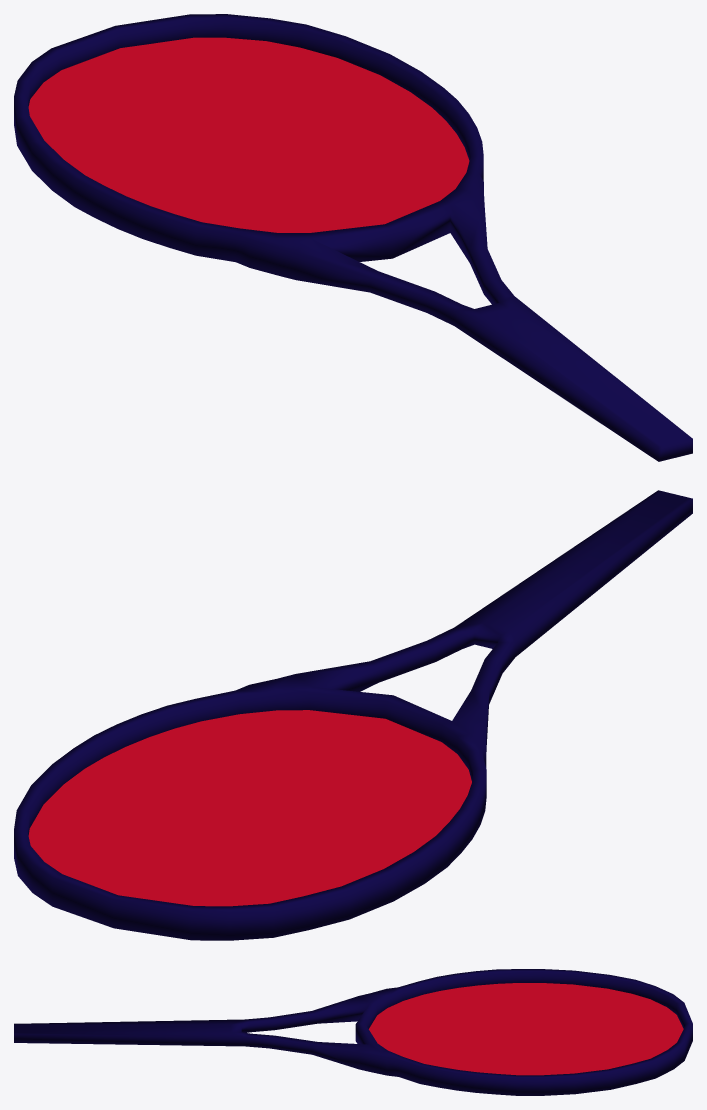
File: raquette.fbx
3 renders of one model, top to bottom at view 1: azimuth 30°, elevation 25°; view 2: azimuth 150°, elevation 25°; view 3: azimuth 270°, elevation 25°, orthographic. The views are drawn at different scales.
Visible parts, largest first — view 1: BezierCircle, Framee; view 2: BezierCircle, Framee; view 3: BezierCircle, Framee.
Boxes of the visible parts, bbox=[...] form: BezierCircle: bbox=[28, 37, 469, 232]; Framee: bbox=[14, 14, 692, 461]; BezierCircle: bbox=[28, 710, 471, 906]; Framee: bbox=[14, 490, 692, 940]; BezierCircle: bbox=[369, 983, 683, 1075]; Framee: bbox=[14, 969, 692, 1095].
Size of the model in its own units: 3.71 by 0.2816 by 9.71.
